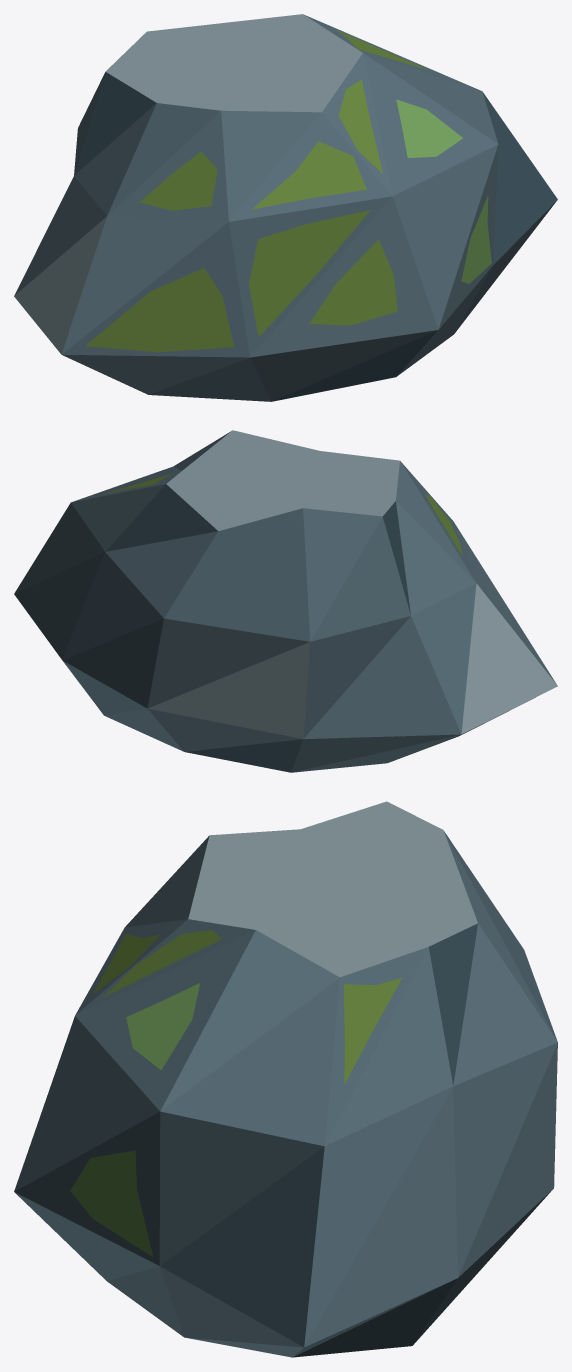
Rendered from rock_01.glb.
3 views of the same model, one above another, from view 1: azimuth 30°, elevation 25°; view 2: azimuth 150°, elevation 25°; view 3: azimuth 270°, elevation 25° (orthographic). The views are drawn at different scales.
Visible parts, largest first — view 1: Rock; view 2: Rock; view 3: Rock.
Part boxes in pixels (bbox=[...]): Rock: bbox=[14, 14, 557, 401]; Rock: bbox=[14, 430, 557, 772]; Rock: bbox=[14, 801, 557, 1357].
Size of the model in its own units: 1.92 by 0.9643 by 1.28.
